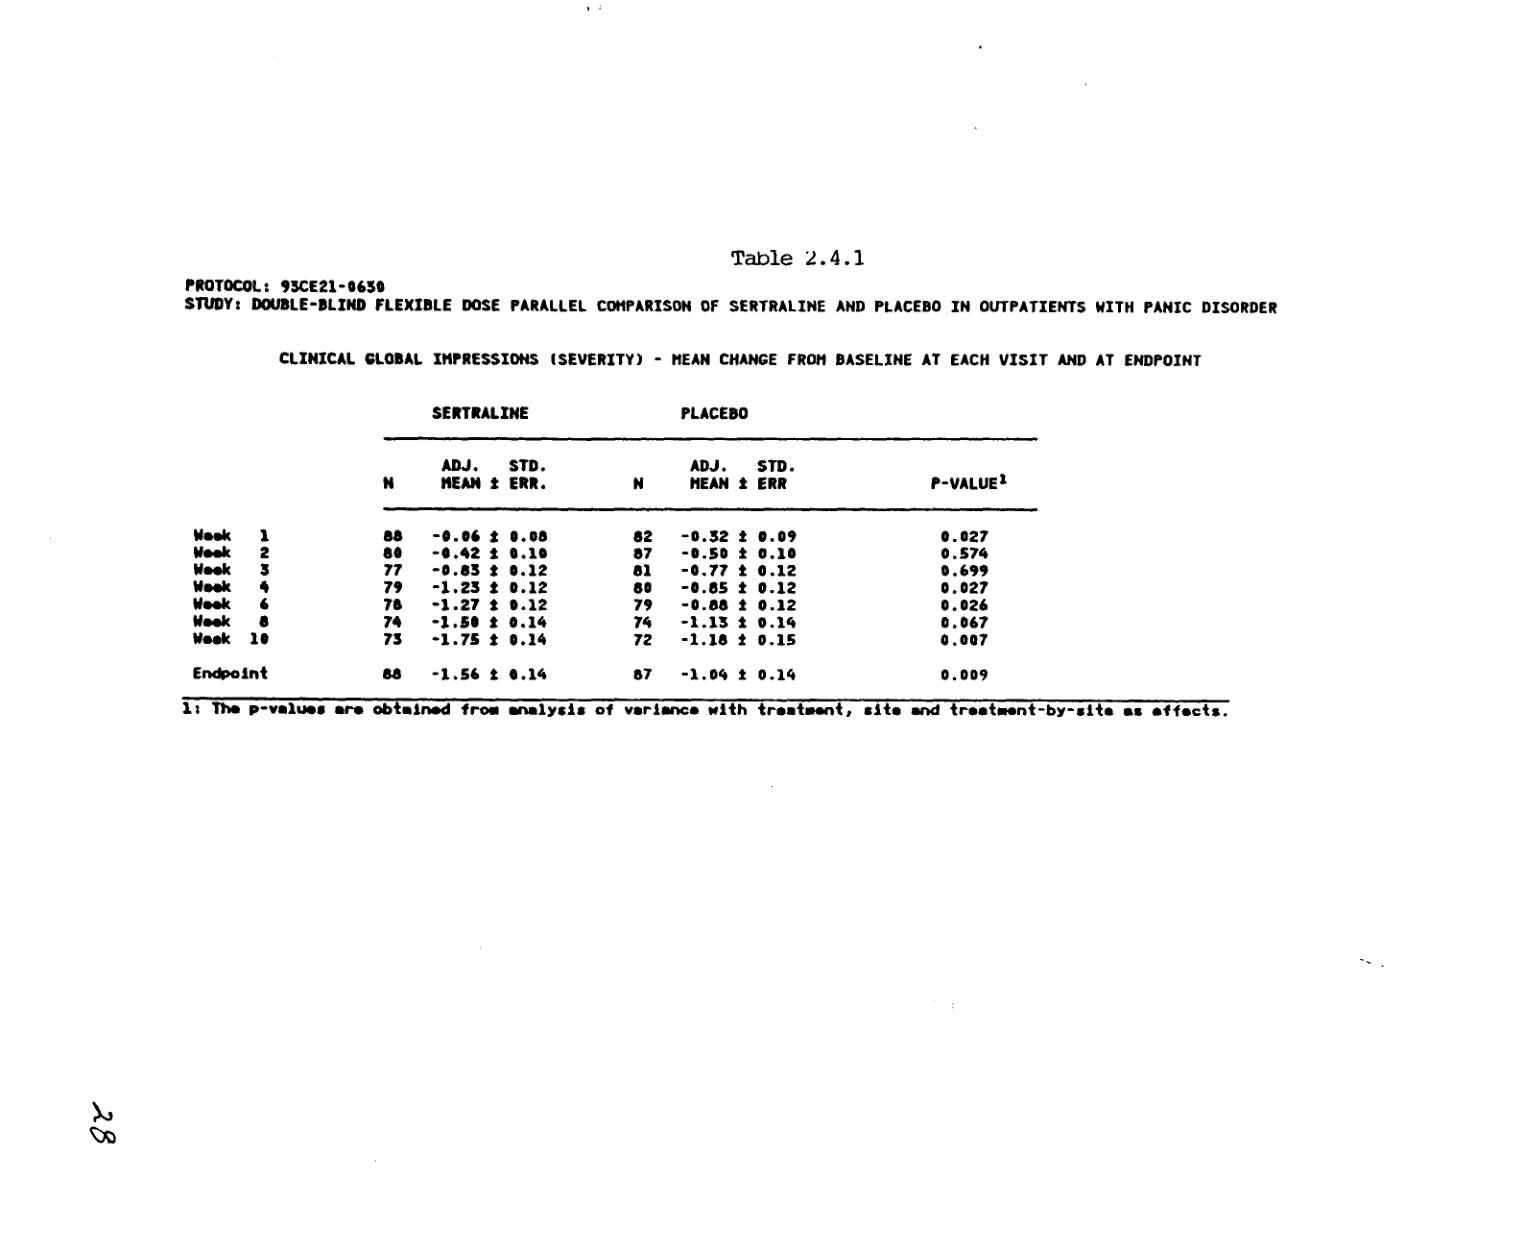partial_lined_merged_cells: (190, 402, 1042, 686)
